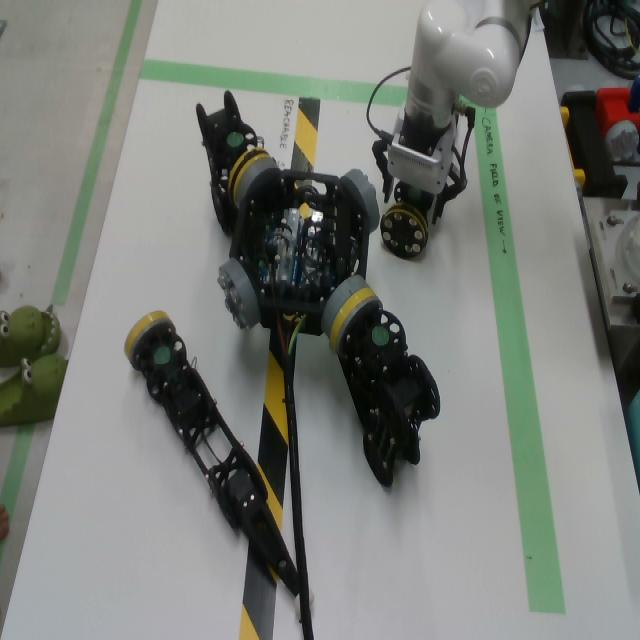body: (229, 171, 370, 336)
body_connector: (216, 259, 260, 331), (321, 275, 369, 337), (341, 169, 380, 233), (235, 159, 280, 207)
gripper: (372, 119, 467, 224)
leg: (123, 311, 299, 620), (329, 287, 440, 488), (195, 91, 271, 237), (380, 180, 434, 257)
leg_connector: (330, 288, 383, 353), (380, 203, 429, 260), (124, 311, 175, 363), (227, 148, 273, 204)
leg_marker: (372, 327, 388, 345), (227, 132, 244, 147), (155, 348, 169, 365), (408, 187, 421, 197)
